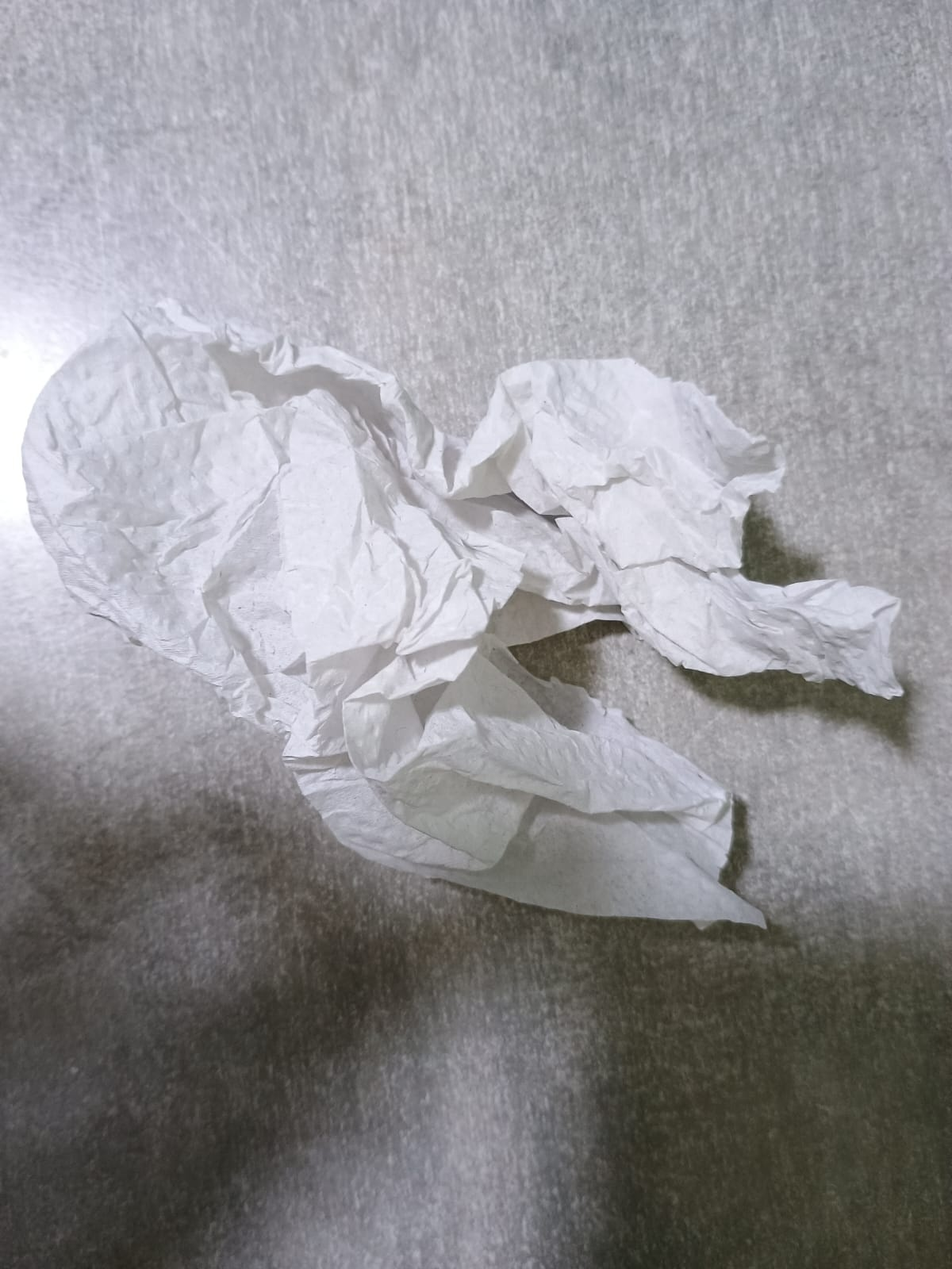Ordinario: (21, 294, 903, 933)
